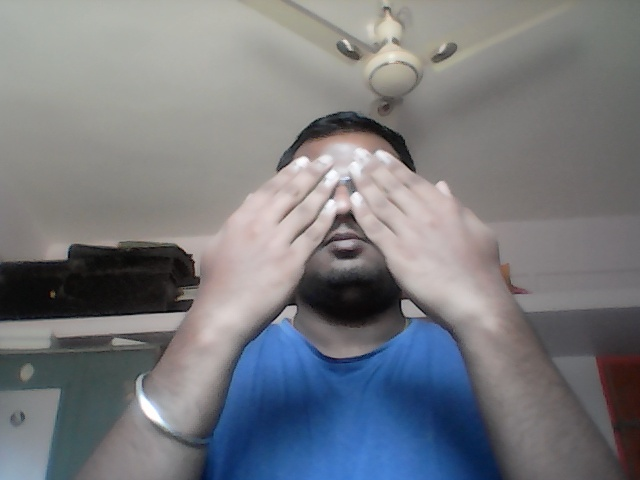Thank You: (197, 148, 507, 335)
